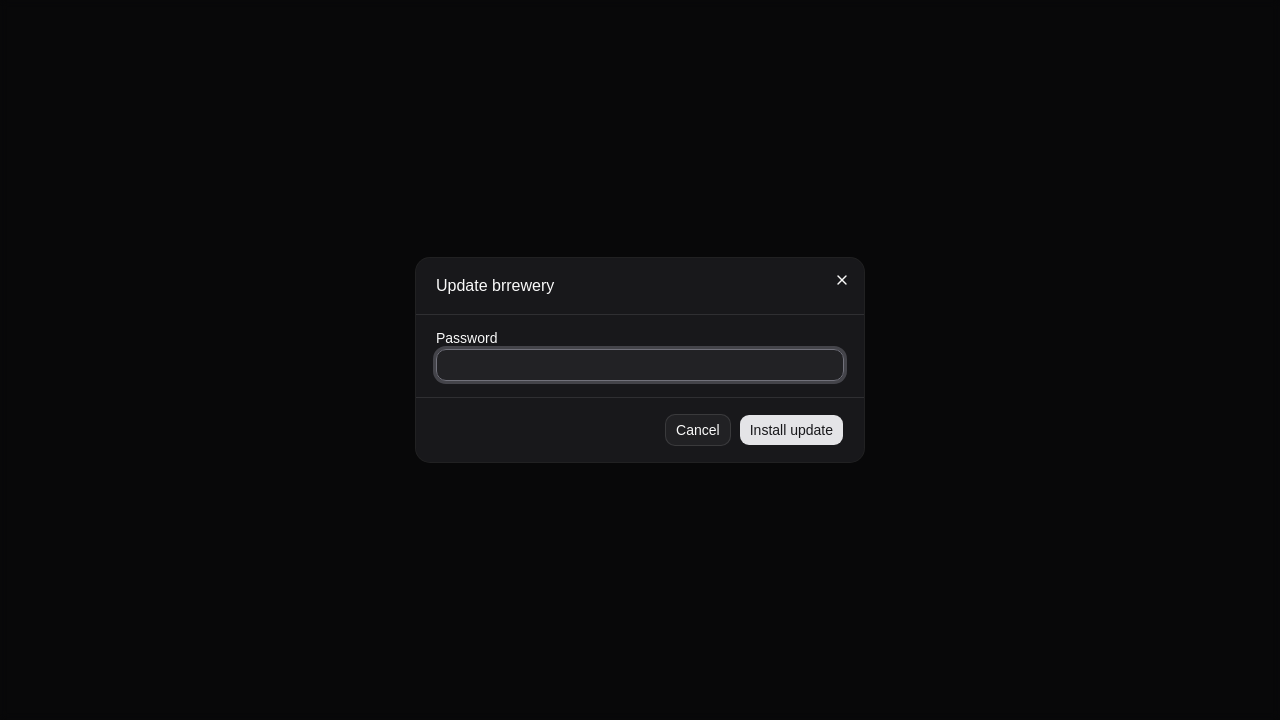
Test case: UpdateModal › requires a password before starting
This screenshot has width=1280, height=720.
Step 1. Click the button "Install update" → x=791, y=430, box [739,414,844,446]
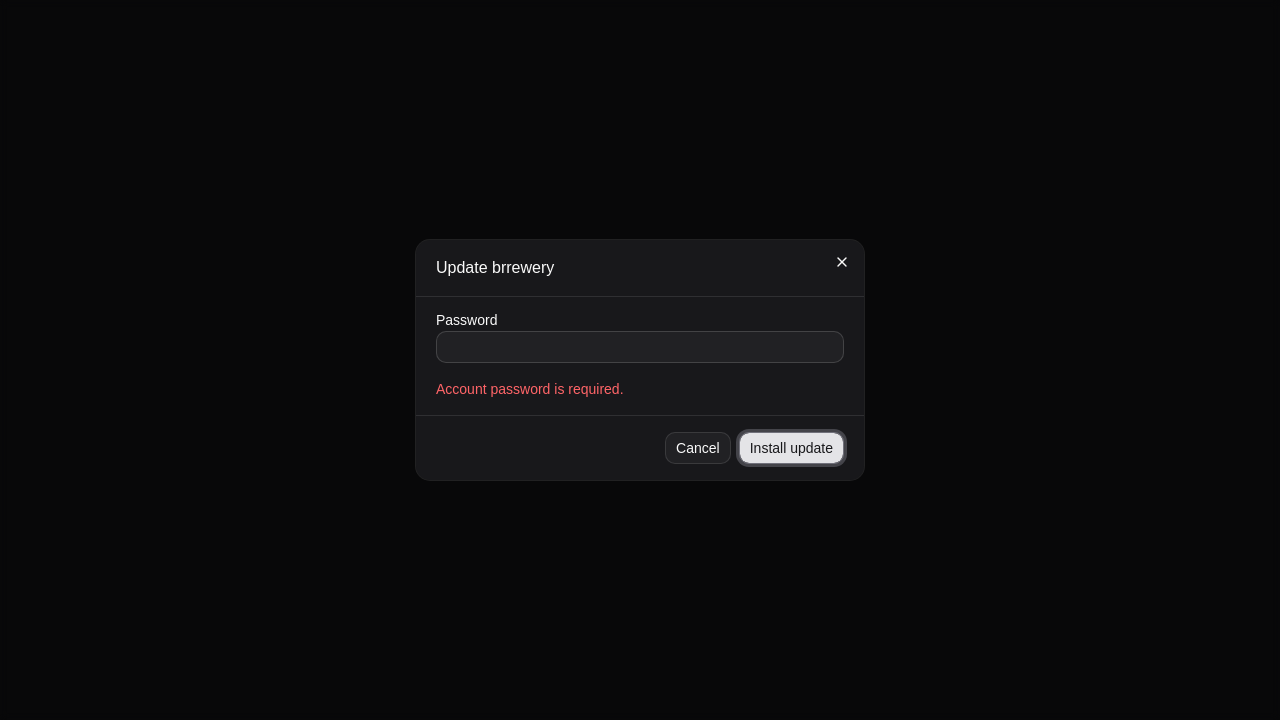
Check: the text "Account password is required." is shown, box [436,381,624,397]
